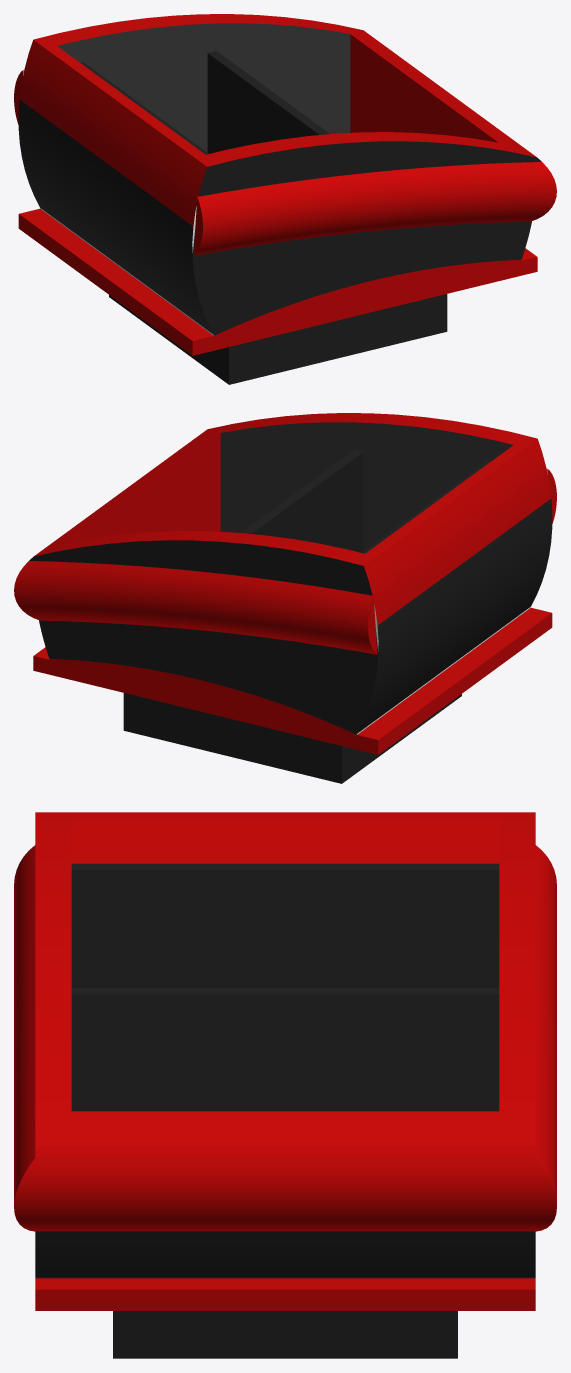
File: car.fbx
3 renders of one model, top to bottom at view 1: azimuth 30°, elevation 25°; view 2: azimuth 150°, elevation 25°; view 3: azimuth 270°, elevation 25°, orthographic. The views are drawn at different scales.
Parts seen in each view (by area): view 1: TWCarModel1; view 2: TWCarModel1; view 3: TWCarModel1.
Part boxes in pixels (x1,y1,x2,y2): TWCarModel1: (14,14,556,384); TWCarModel1: (14,413,556,783); TWCarModel1: (14,812,556,1358).
Bounding box in the file's own units: 109 × 73.04 × 100.
